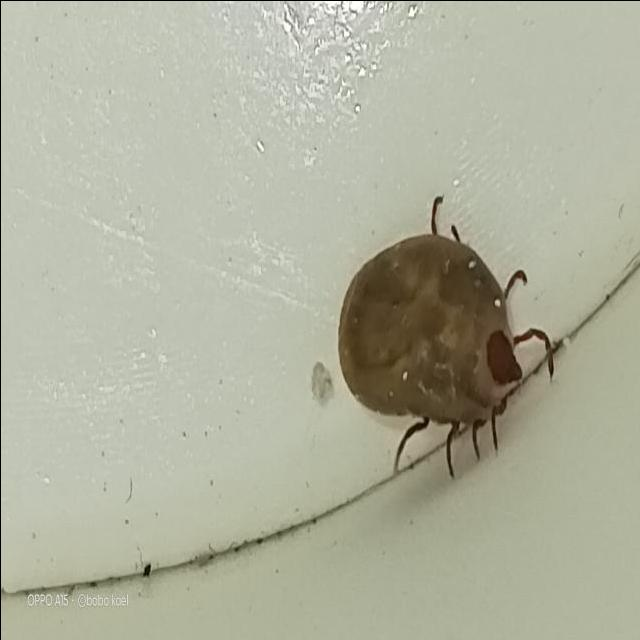Rhipicephalus Sanguineus-F-Fed: (337, 195, 562, 480)
